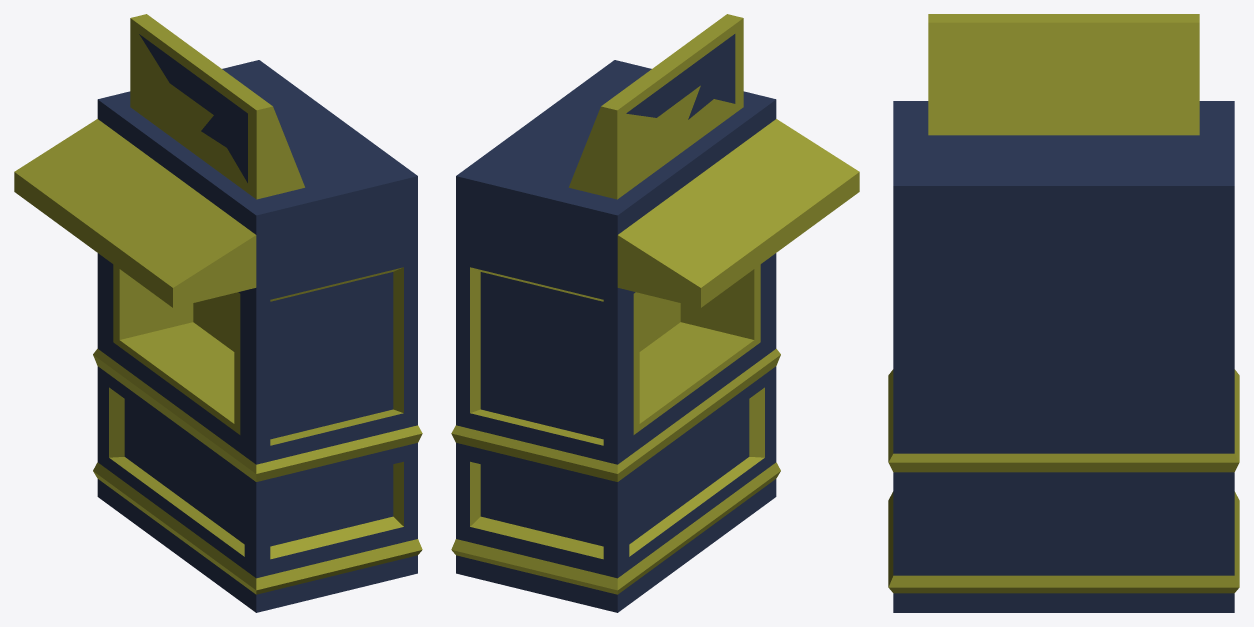
Rendered from NewstandModel03.fbx.
3 views of the same model, side by side, from view 1: azimuth 30°, elevation 25°; view 2: azimuth 150°, elevation 25°; view 3: azimuth 270°, elevation 25° (orthographic). The views are drawn at different scales.
Visible parts, largest first — view 1: Newstand03; view 2: Newstand03; view 3: Newstand03.
Boxes of the visible parts, bbox=[...] form: Newstand03: bbox=[14, 14, 422, 612]; Newstand03: bbox=[451, 14, 859, 612]; Newstand03: bbox=[888, 14, 1239, 612].
Bounding box in the file's own units: 207 × 389 × 237.
